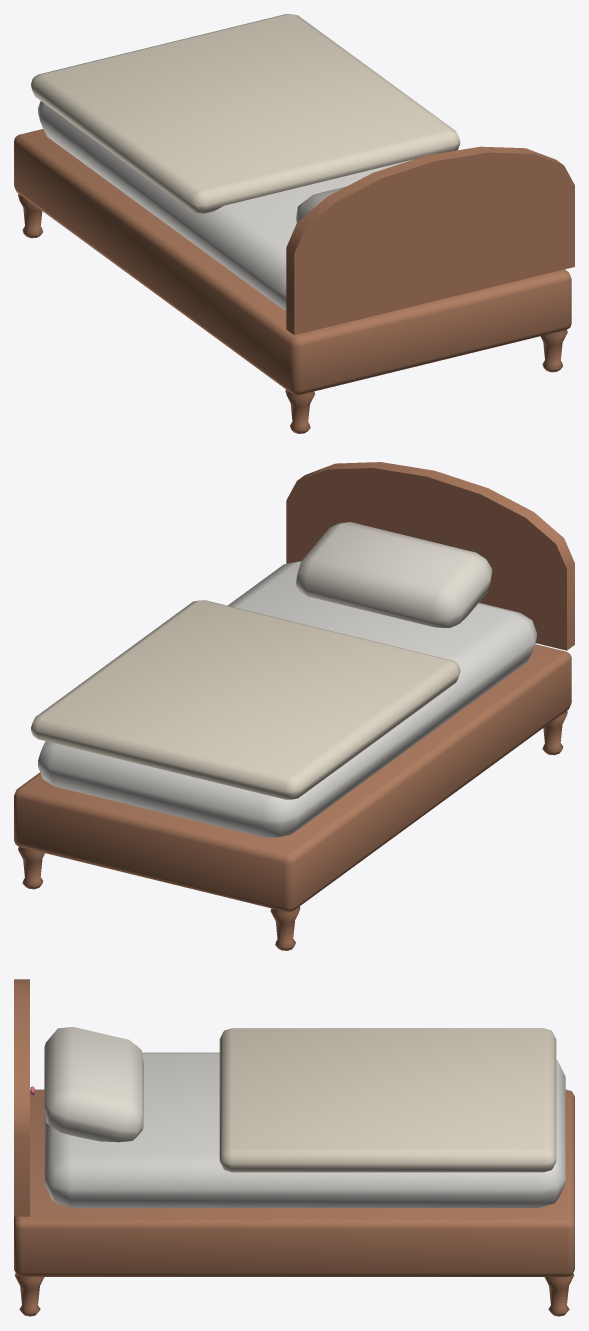
Rendered from bed_single.glb.
3 renders of one model, top to bottom at view 1: azimuth 30°, elevation 25°; view 2: azimuth 150°, elevation 25°; view 3: azimuth 270°, elevation 25°, orthographic.
Visible parts, largest first — view 1: bed_single; view 2: bed_single; view 3: bed_single.
Boxes of the visible parts, left/top/right/bottom form: bed_single: left=14, top=14, right=574, bottom=433; bed_single: left=14, top=462, right=574, bottom=950; bed_single: left=14, top=979, right=574, bottom=1316.
Size of what is drawn, in the model's own units: 1.2 by 1 by 2.1.
